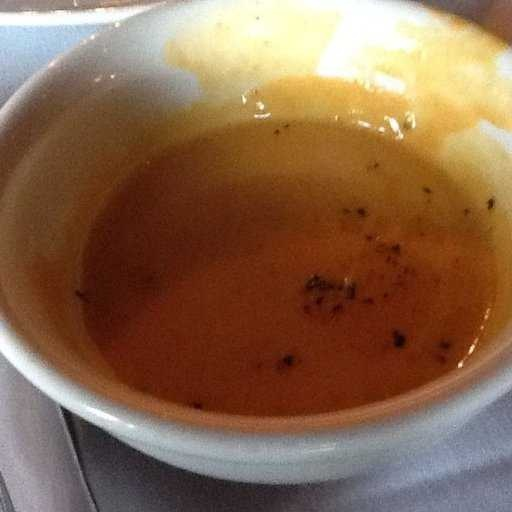soup: (64, 69, 459, 421)
